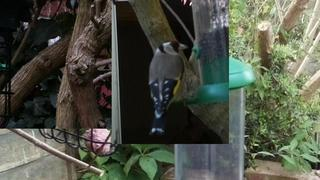goldfinch: (148, 40, 189, 135)
